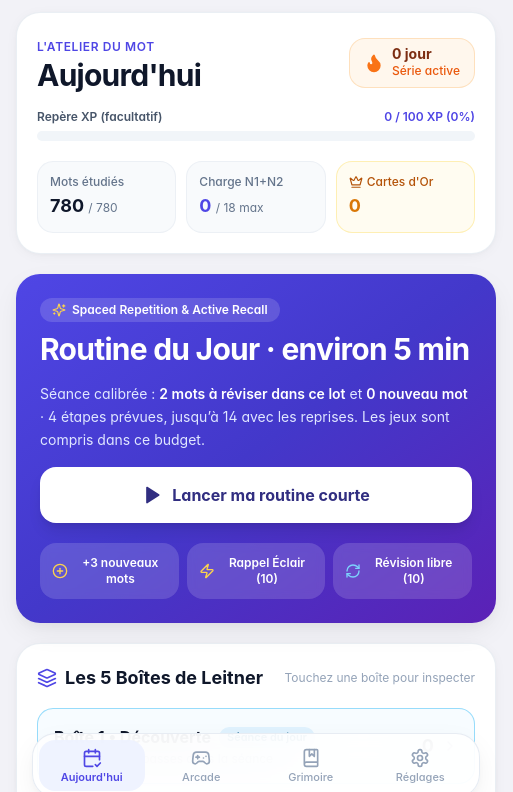
it: completes the short daily goal with due words remaining and launches a fresh optional review
This screenshot has width=513, height=792.
Click the button "Lancer ma routine courte". click: coordinates (256, 495)
box: [40, 467, 472, 523]
Wait 301000 ms
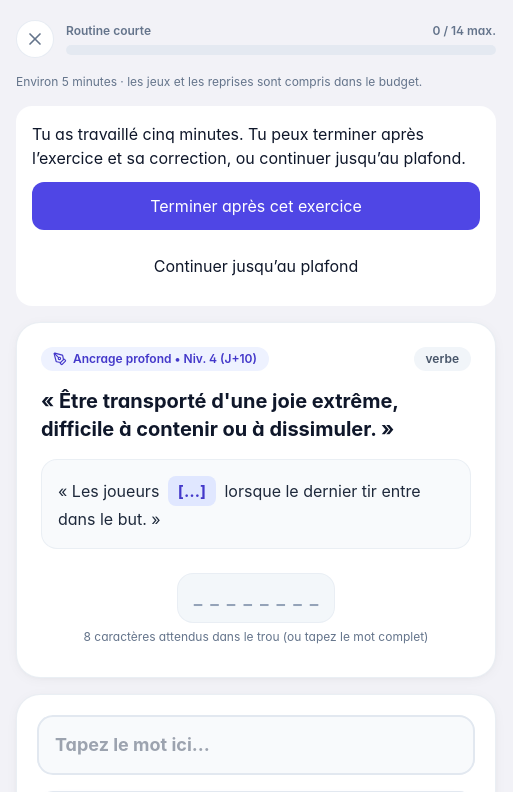
Click the button "Terminer après cet exercice". click: coordinates (256, 206)
box: [32, 182, 480, 230]
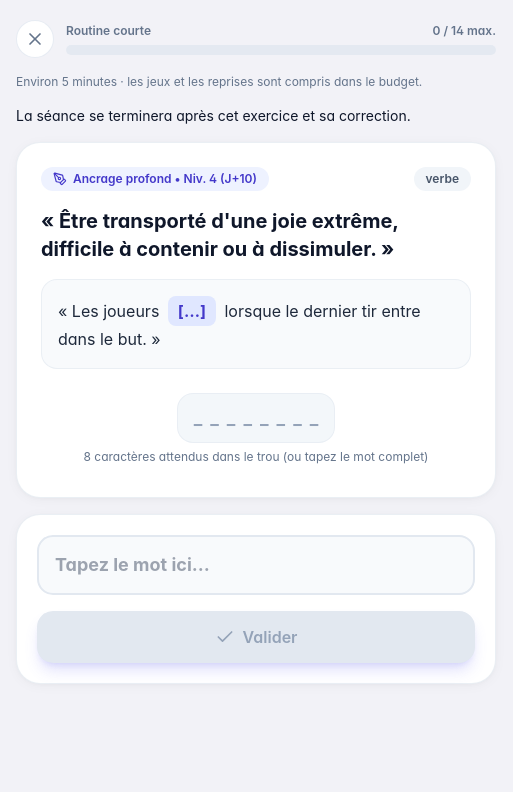
Type "exulter" into the field. click: coordinates (256, 565)
box: [37, 535, 475, 595]
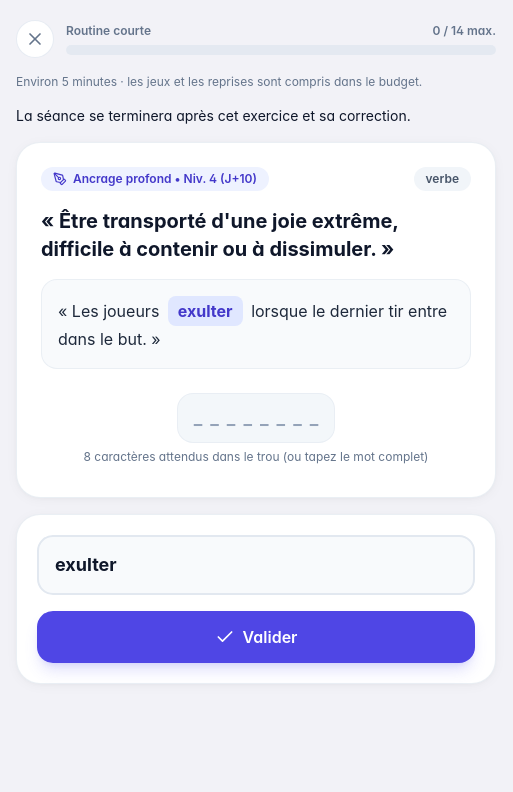
Click the button "Valider". click: coordinates (256, 637)
box: [37, 611, 475, 663]
Wait 3000 ms
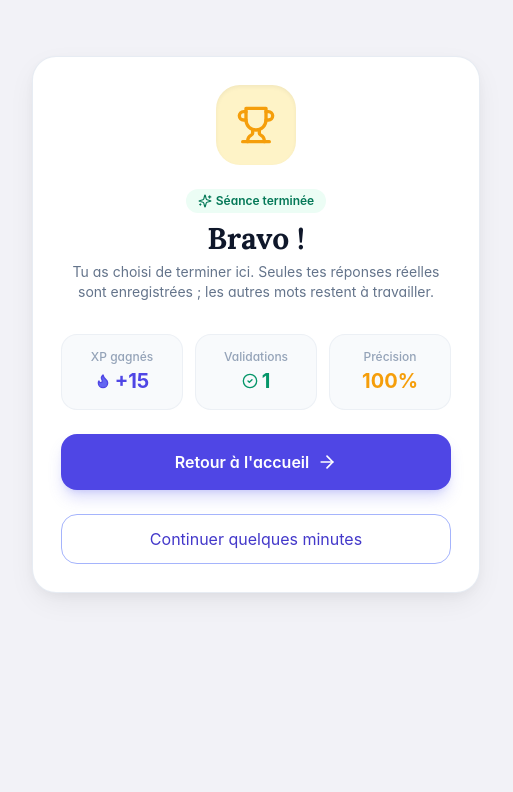
Click the button "Continuer quelques minutes". click: coordinates (256, 538)
box: [61, 514, 451, 564]
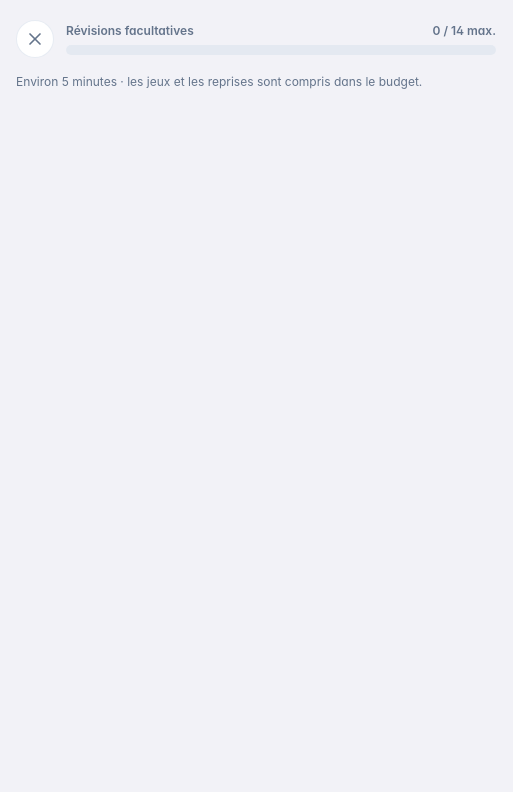
Click the button named "Quitter la session". click: coordinates (35, 39)
box: [16, 20, 54, 58]
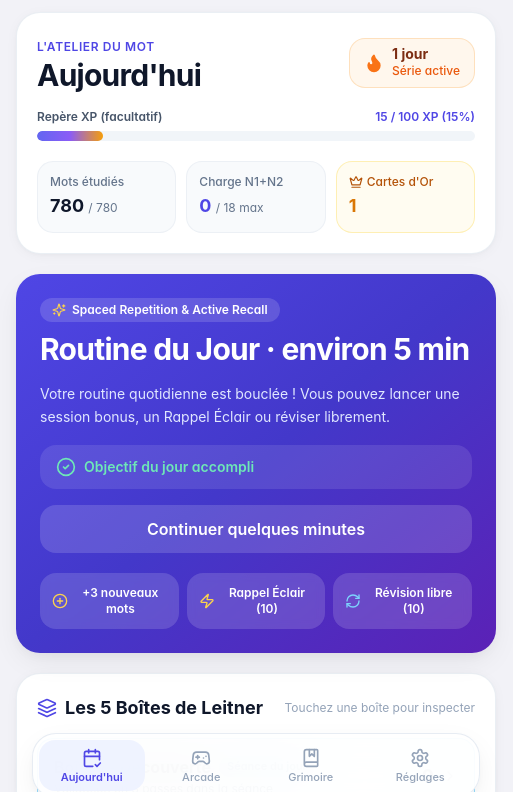
Check: the text "Objectif du jour accompli" is shown, box [84, 456, 254, 476]
